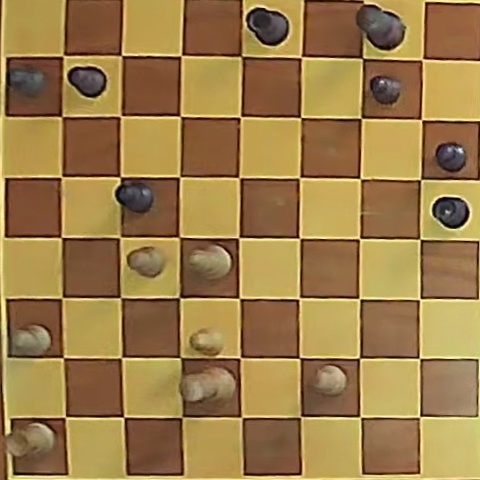black-king: (355, 5, 405, 50)
black-pawn: (68, 66, 107, 98), (115, 182, 154, 213), (8, 67, 45, 97), (370, 76, 401, 105), (435, 143, 466, 172)
black-rook: (246, 7, 289, 46), (432, 197, 468, 229)
white-bishop: (188, 244, 232, 280)
white-king: (179, 365, 236, 405)
white-pawn: (10, 324, 52, 356), (127, 247, 165, 278), (312, 364, 346, 395), (189, 328, 224, 356)
white-rook: (6, 422, 56, 460)
